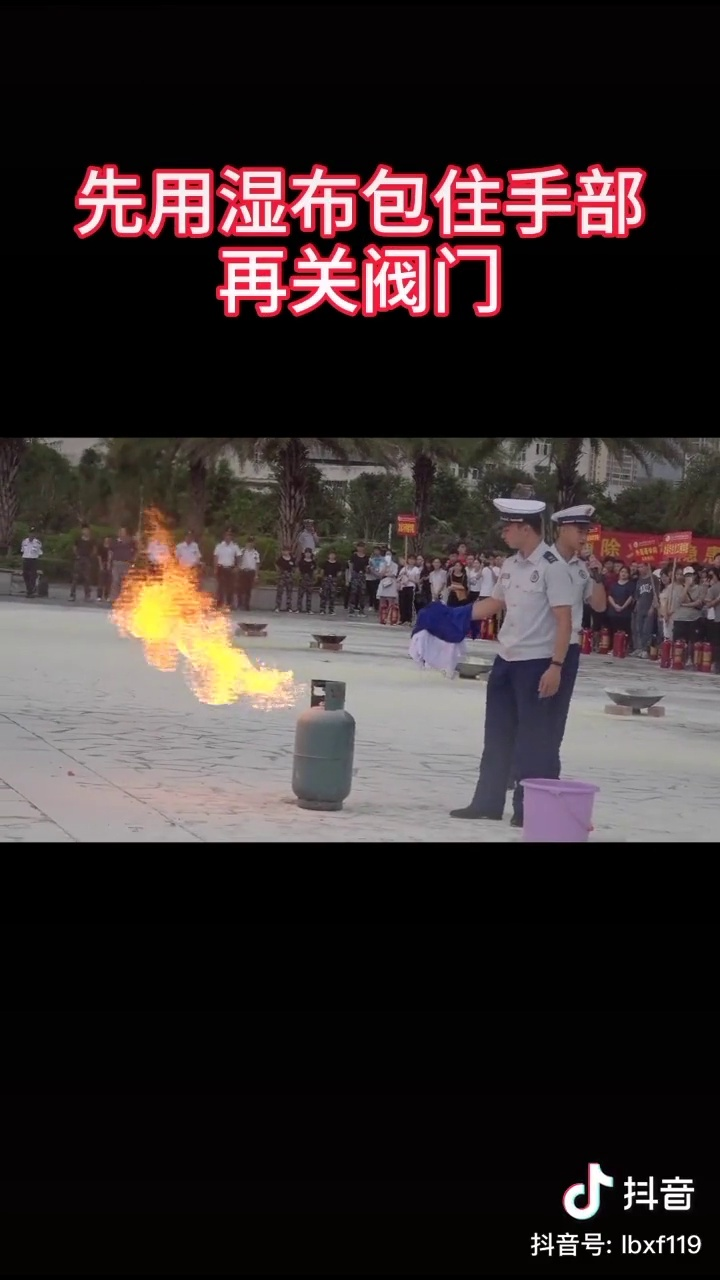fire: (102, 538, 288, 718)
